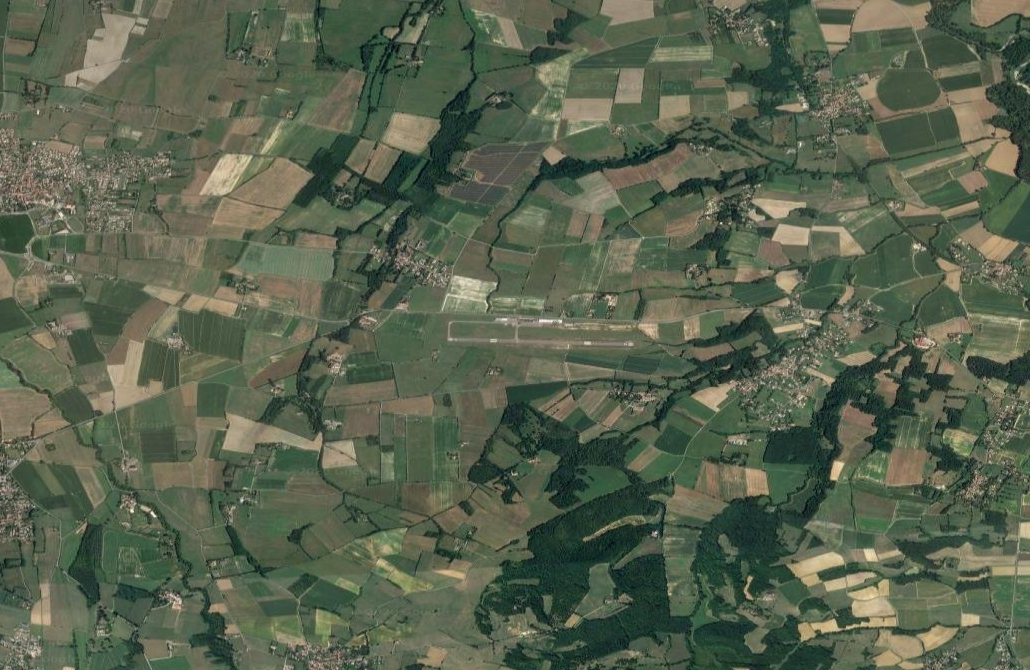airport: (444, 316, 637, 348)
